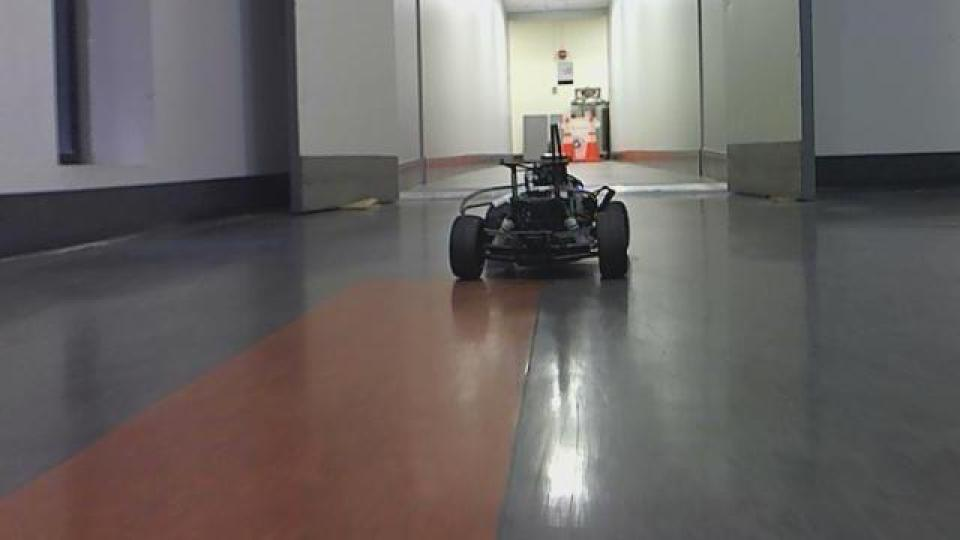car: (444, 122, 633, 284)
